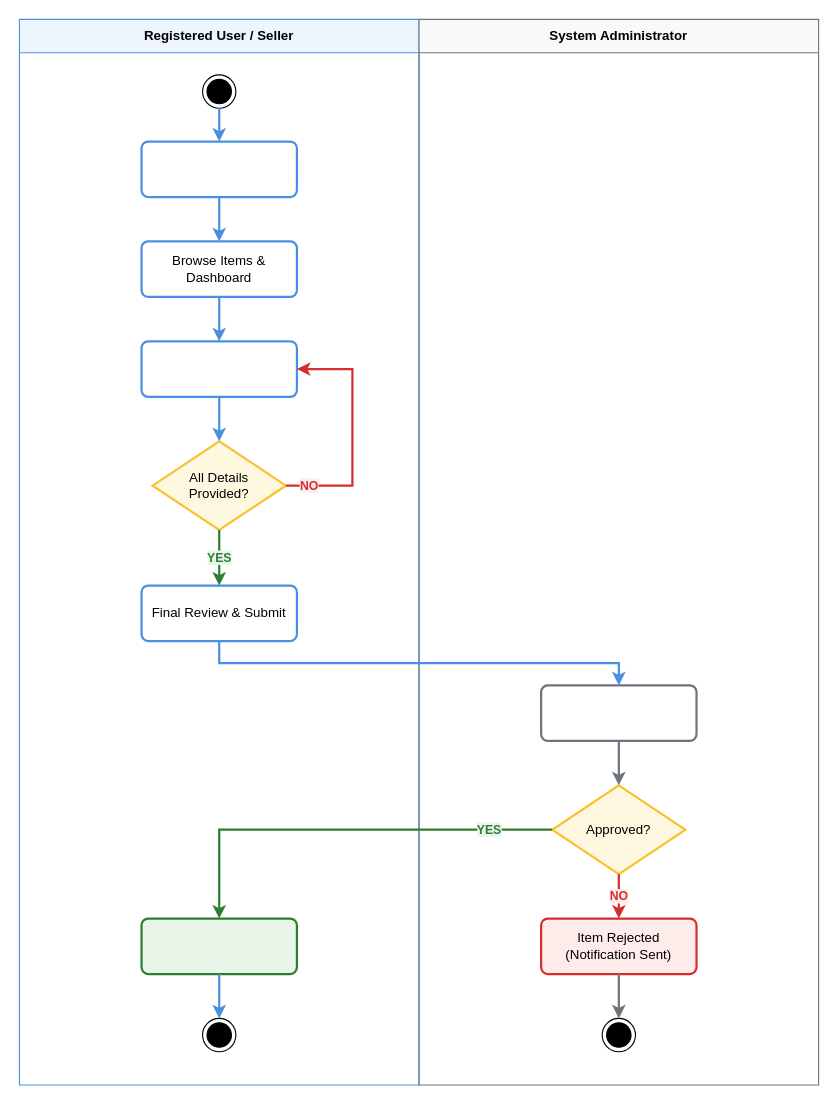
This 838x1104 diagram has some shape labels left out. The shapes that lost their labels are listed below. From the top down, each one's centre as x and y in pixels, then its label:
point 218,169: Login / Register
point 218,368: Initiate "Sell Item"
point 618,712: Moderation Review
point 218,946: Auction Published (Live)
